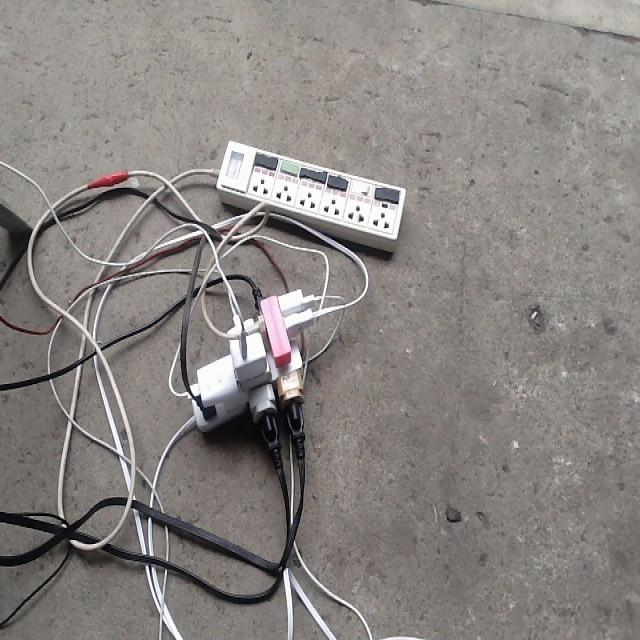-: (179, 282, 328, 469)
